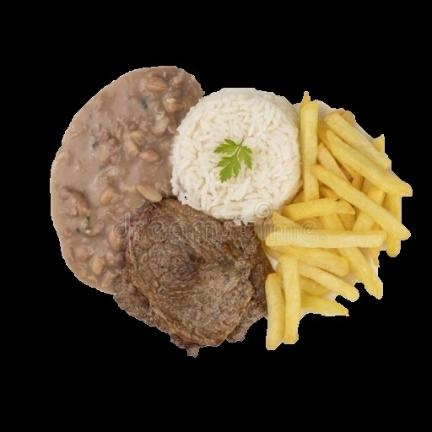beans: (51, 66, 203, 292)
meat: (115, 198, 272, 355)
potato: (265, 92, 412, 347)
rice: (172, 89, 300, 223)
